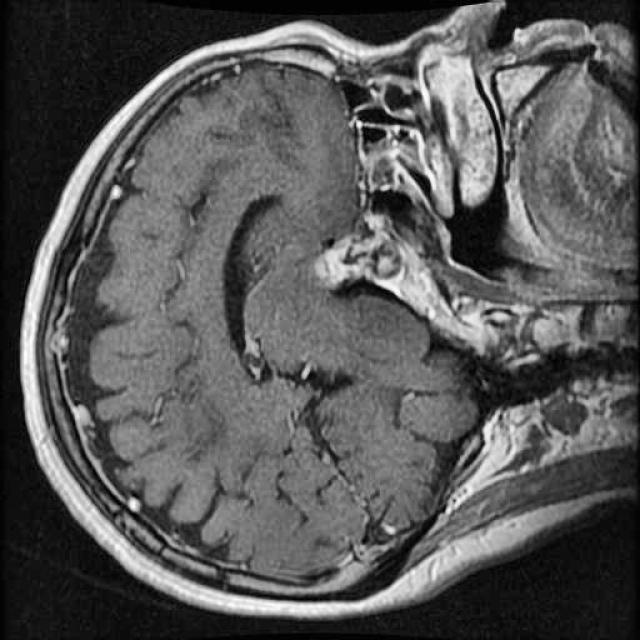Tumor: (311, 204, 410, 300)
